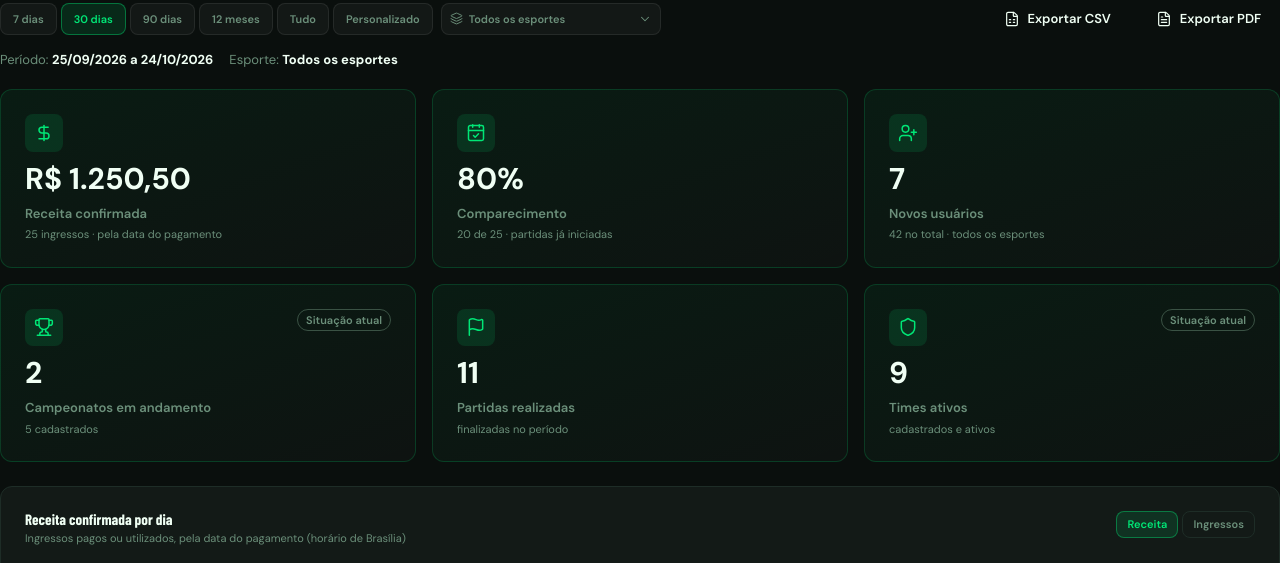
Test: AdminDashboard › período personalizado inválido mostra erro e não consulta a API
Click the button "Personalizado" at [383, 19], box [333, 3, 433, 35]
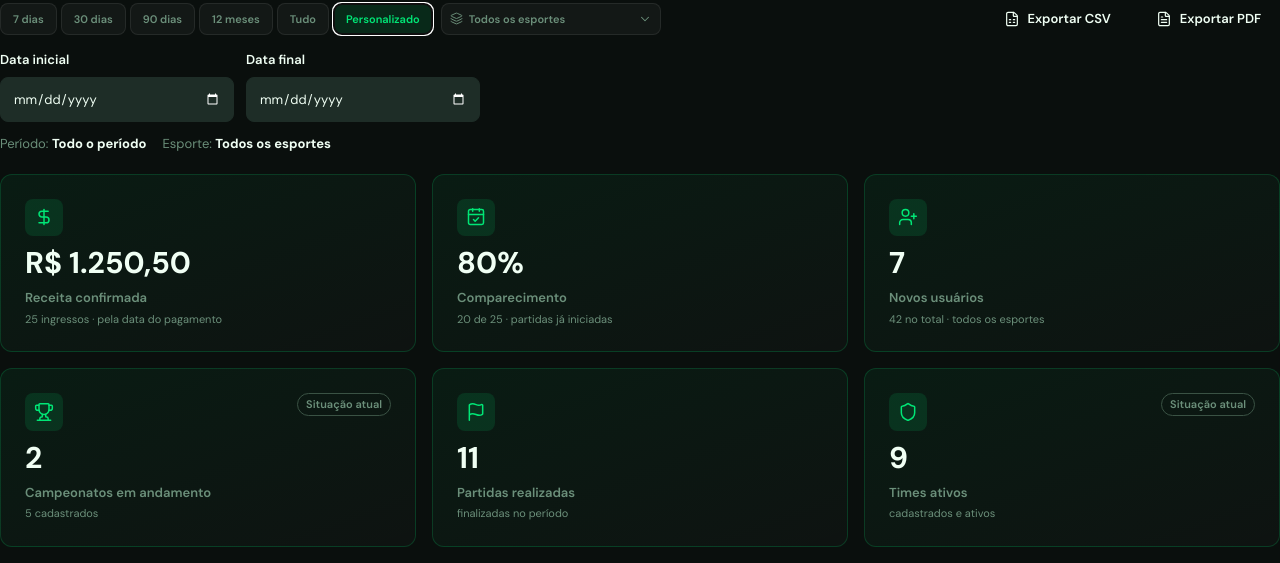
Type "2026-10-10" into the date field labelled "Data inicial" at [117, 100], box [0, 77, 234, 122]
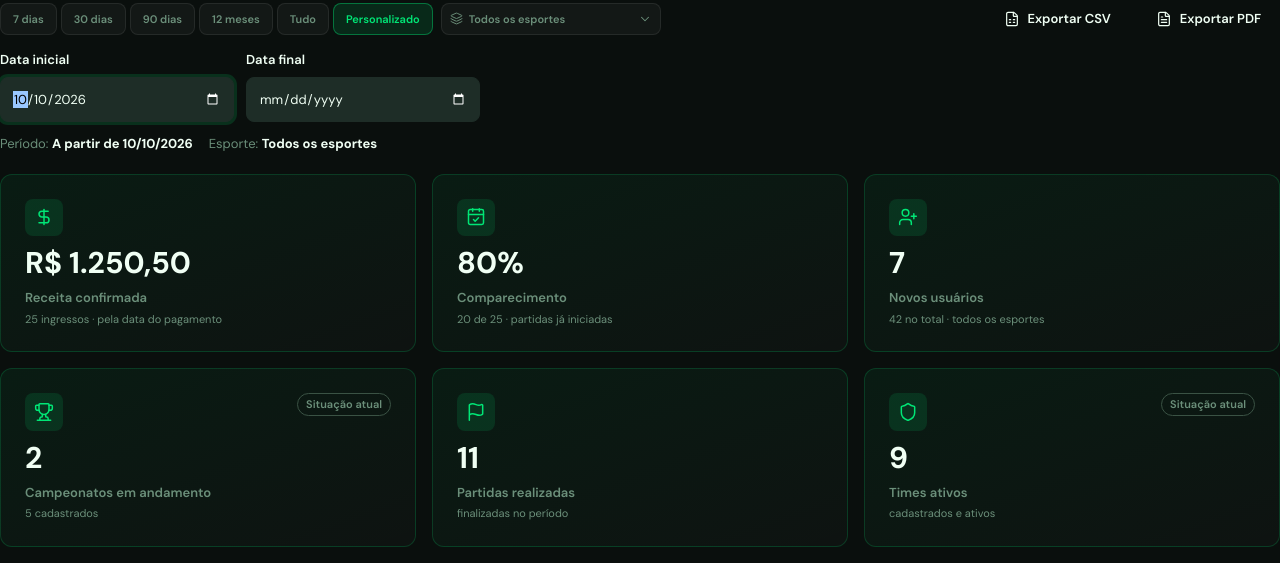
Type "2026-10-01" into the date field labelled "Data final" at [363, 100], box [246, 77, 480, 122]
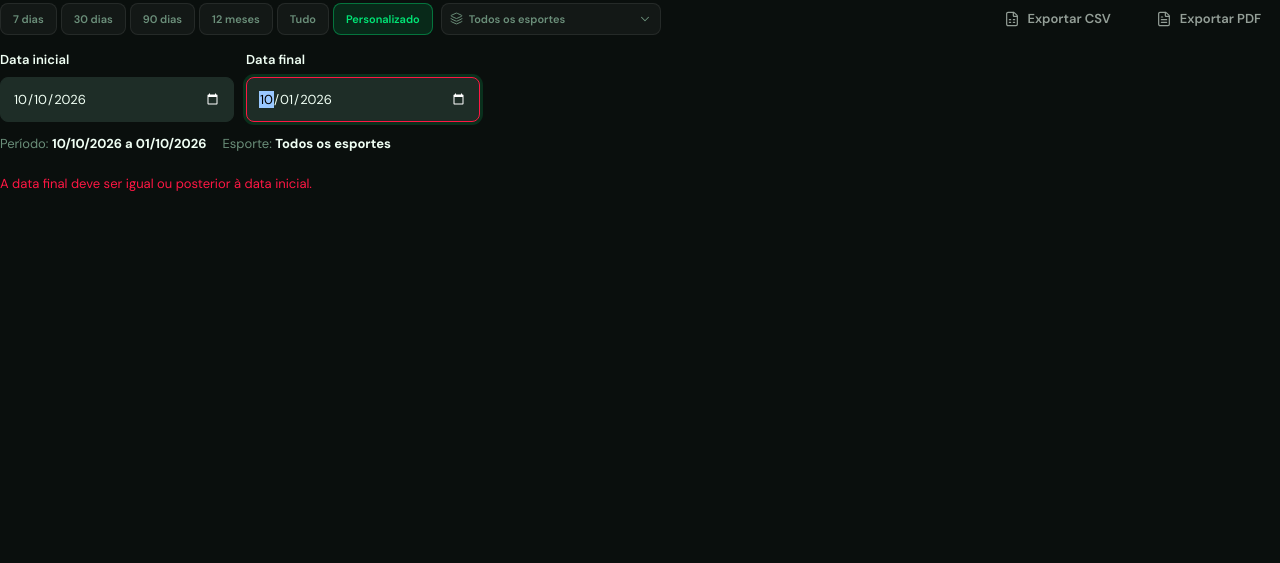
Check: the text "A data final deve ser igual ou posterior à data inicial." is shown, box [0, 174, 312, 192]
